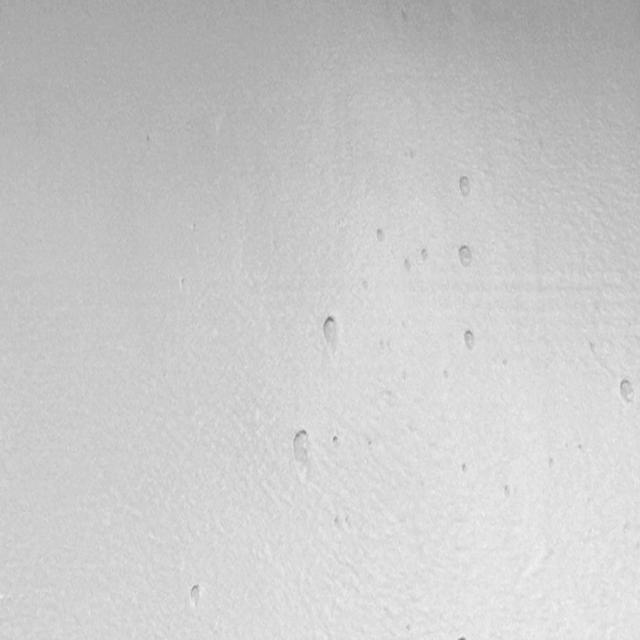pin holes: (288, 427, 312, 466), (318, 312, 343, 348), (616, 376, 639, 408), (454, 242, 476, 270), (453, 175, 475, 203), (458, 327, 478, 352), (186, 583, 206, 608), (374, 226, 388, 245), (502, 482, 516, 501), (418, 246, 431, 266), (401, 258, 416, 275), (332, 514, 346, 532), (460, 462, 473, 478), (331, 434, 344, 449), (546, 457, 558, 473), (365, 438, 377, 453), (501, 359, 512, 373), (576, 443, 587, 455), (401, 368, 409, 384), (443, 366, 449, 384), (180, 275, 187, 290), (362, 277, 368, 294)
